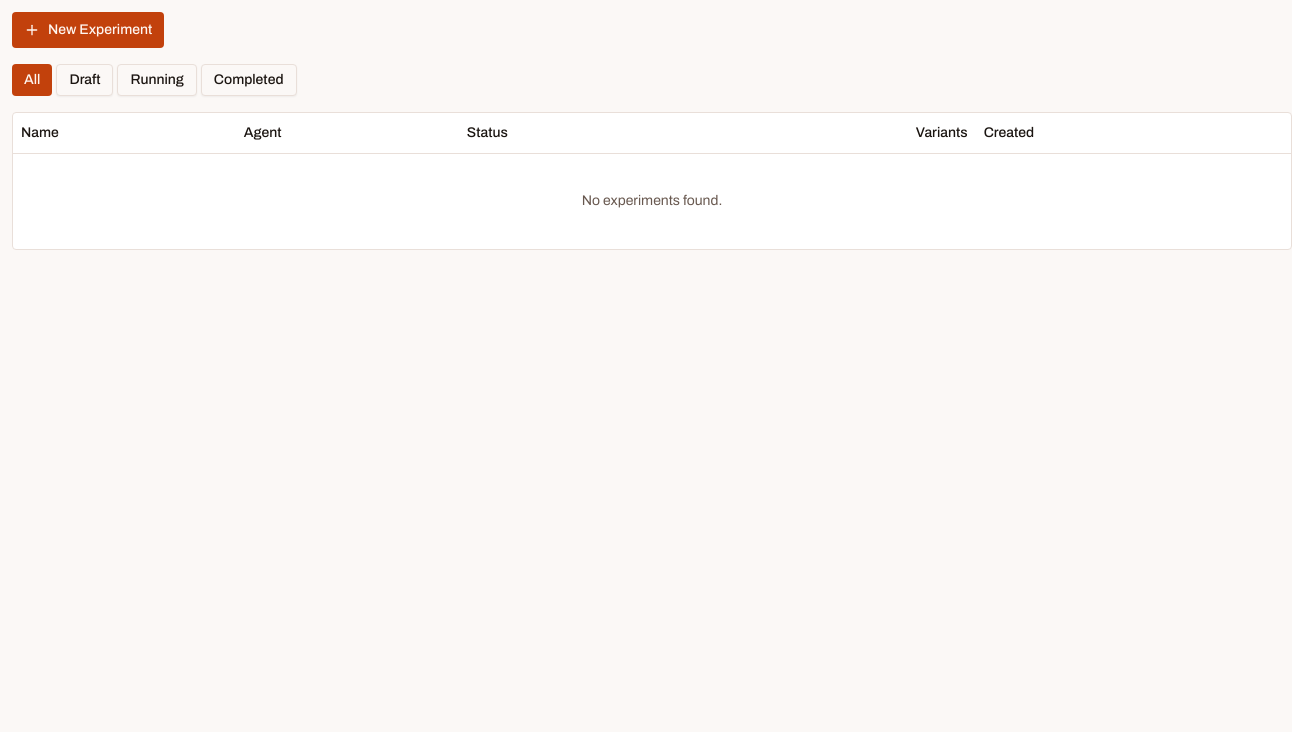
Test case: ExperimentsList › Agents loading in create form › shows "Loading agents..." while agents are being fetched
Click the button "New Experiment".
click(88, 30)  # box [12, 12, 164, 48]
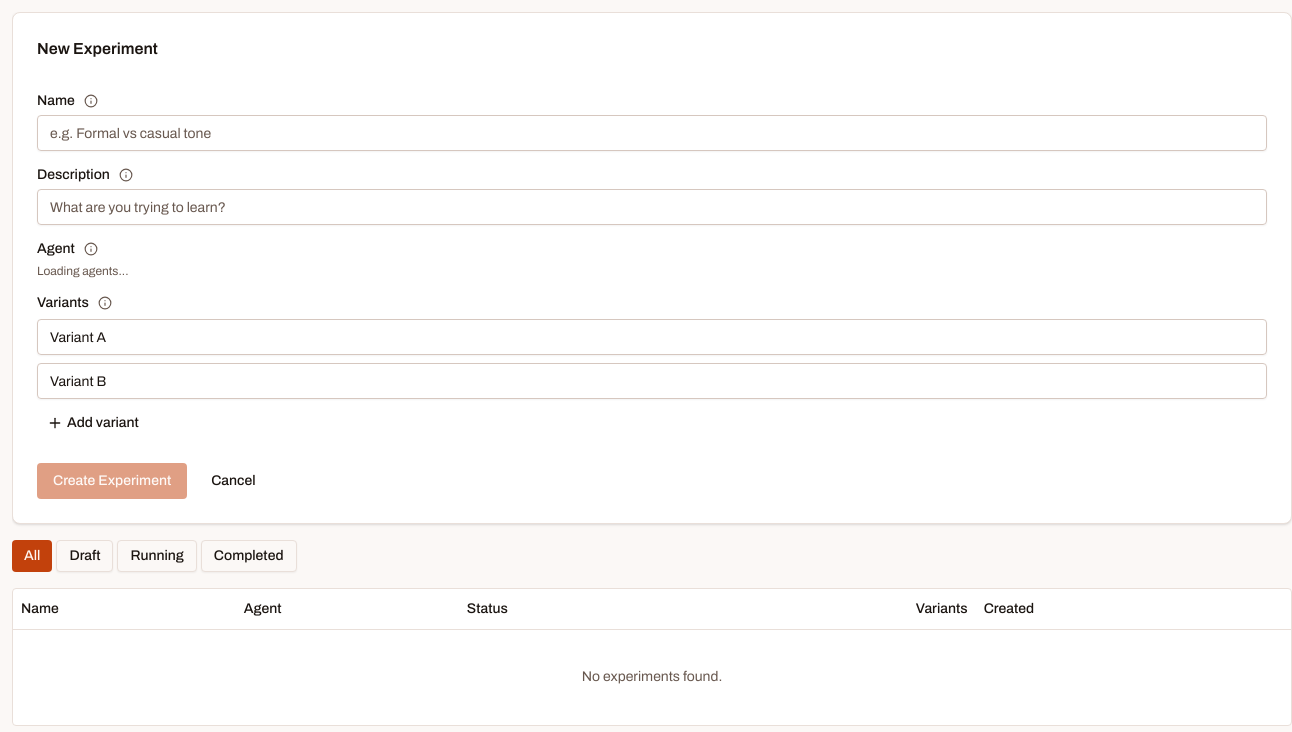
expect the text "Loading agents..." is shown: met, box [37, 264, 128, 278]
